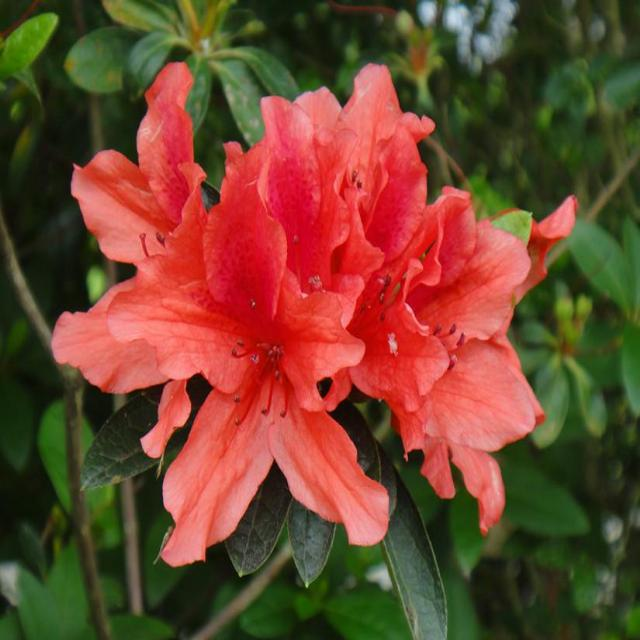organic waste: (112, 184, 394, 561), (328, 178, 572, 540), (221, 61, 448, 372), (47, 64, 235, 394)
